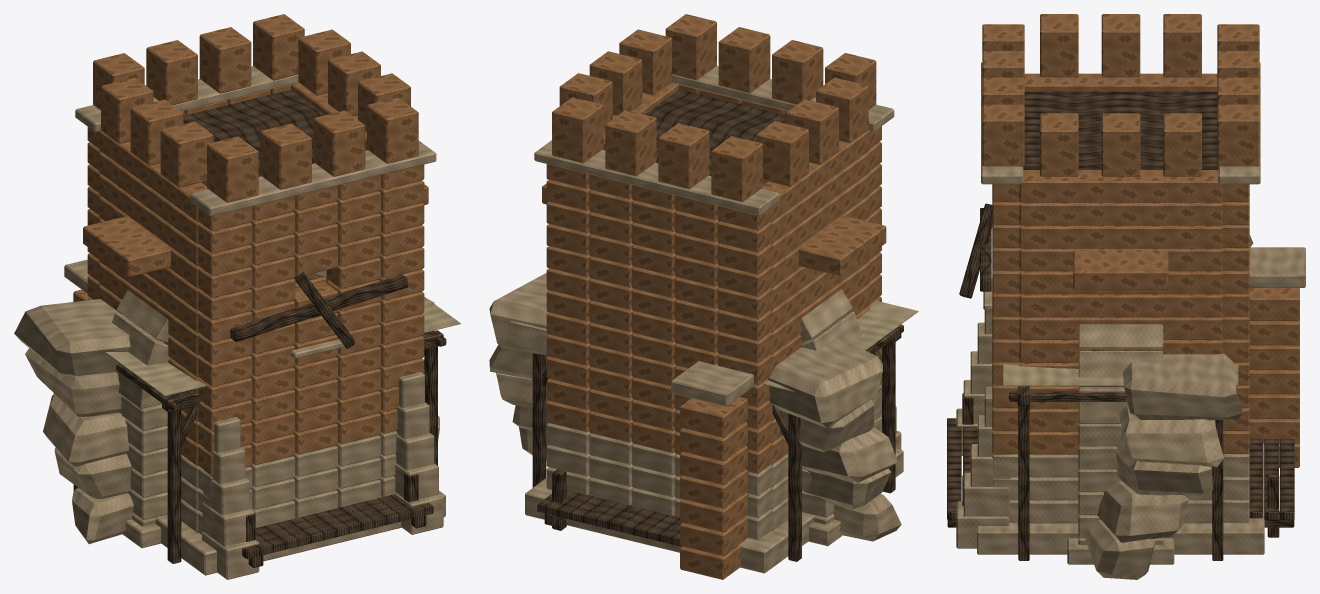
File: ch5-fortress-kit.glb
3 views of the same model, side by side, from view 1: azimuth 30°, elevation 25°; view 2: azimuth 150°, elevation 25°; view 3: azimuth 270°, elevation 25° (orthographic). The views are drawn at different scales.
Parts seen in each view (by area): view 1: tower_intact_Worn, tower_broken_Worn, tower_broken_Euphrates, bluff_section_Euphrates, gate_arch_Euphrates, tower_intact_Euphrates, landing_deck_Weathered, roof_gallery_Weathered, tower_intact_Weathered, tower_broken_Weathered, gate_arch_Worn, roof_gallery_Dusty (+1 smaller); view 2: tower_broken_Worn, tower_intact_Worn, bluff_section_Euphrates, tower_broken_Euphrates, wall_return_Worn, roof_gallery_Weathered, tower_intact_Euphrates, landing_deck_Weathered, tower_intact_Weathered, gate_arch_Euphrates, gate_arch_Worn, wall_return_Euphrates (+1 smaller); view 3: tower_broken_Worn, tower_intact_Worn, bluff_section_Euphrates, tower_broken_Euphrates, gate_arch_Euphrates, tower_intact_Weathered, wall_return_Worn, landing_deck_Weathered, roof_gallery_Weathered, gate_arch_Worn, wall_return_Euphrates, tower_intact_Euphrates (+2 smaller).
Boxes of the visible parts, x1=… form: tower_intact_Worn: x1=87, y1=14, x2=424, y2=364; tower_broken_Worn: x1=87, y1=142, x2=424, y2=475; tower_broken_Euphrates: x1=154, y1=372, x2=445, y2=579; bluff_section_Euphrates: x1=14, y1=299, x2=439, y2=543; gate_arch_Euphrates: x1=112, y1=270, x2=326, y2=548; tower_intact_Euphrates: x1=75, y1=66, x2=436, y2=358; landing_deck_Weathered: x1=242, y1=473, x2=433, y2=567; roof_gallery_Weathered: x1=73, y1=330, x2=446, y2=563; tower_intact_Weathered: x1=183, y1=89, x2=367, y2=185; tower_broken_Weathered: x1=230, y1=272, x2=407, y2=348; gate_arch_Worn: x1=83, y1=184, x2=428, y2=277; roof_gallery_Dusty: x1=105, y1=297, x2=460, y2=396; tower_broken_Worn: x1=546, y1=151, x2=881, y2=473; tower_intact_Worn: x1=546, y1=14, x2=881, y2=280; bluff_section_Euphrates: x1=489, y1=273, x2=901, y2=541; tower_broken_Euphrates: x1=525, y1=383, x2=903, y2=573; wall_return_Worn: x1=680, y1=397, x2=749, y2=579; roof_gallery_Weathered: x1=532, y1=324, x2=903, y2=561; tower_intact_Euphrates: x1=534, y1=66, x2=894, y2=215; landing_deck_Weathered: x1=537, y1=469, x2=737, y2=555; tower_intact_Weathered: x1=602, y1=89, x2=786, y2=185; gate_arch_Euphrates: x1=799, y1=289, x2=861, y2=546; gate_arch_Worn: x1=542, y1=183, x2=886, y2=276; wall_return_Euphrates: x1=671, y1=361, x2=755, y2=406; tower_broken_Worn: x1=992, y1=201, x2=1249, y2=454; tower_intact_Worn: x1=982, y1=14, x2=1259, y2=247; bluff_section_Euphrates: x1=1078, y1=235, x2=1253, y2=579; tower_broken_Euphrates: x1=956, y1=310, x2=1264, y2=554; gate_arch_Euphrates: x1=1067, y1=324, x2=1174, y2=564; tower_intact_Weathered: x1=1023, y1=91, x2=1218, y2=169; wall_return_Worn: x1=1249, y1=288, x2=1299, y2=467; landing_deck_Weathered: x1=947, y1=393, x2=1294, y2=537; roof_gallery_Weathered: x1=1009, y1=386, x2=1223, y2=560; gate_arch_Worn: x1=1073, y1=250, x2=1168, y2=289; wall_return_Euphrates: x1=1249, y1=247, x2=1305, y2=287; tower_intact_Euphrates: x1=981, y1=62, x2=1260, y2=310.
Bounding box in the file's own units: 7.49 × 7.94 × 6.11.
4 materials, 4 textured.
